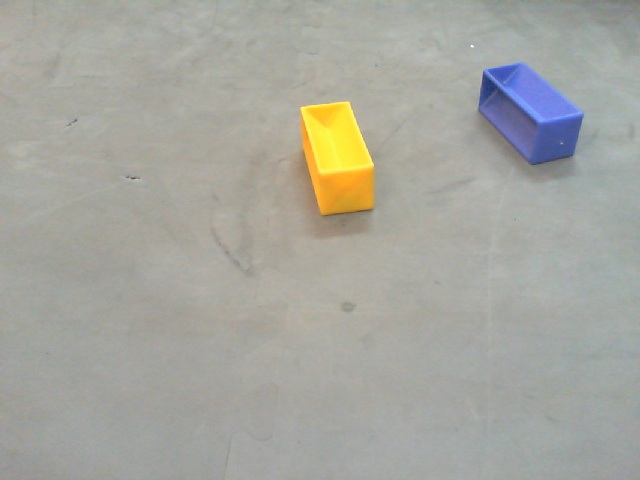BlueSample: (475, 61, 586, 164)
YellowSample: (297, 100, 375, 213)
